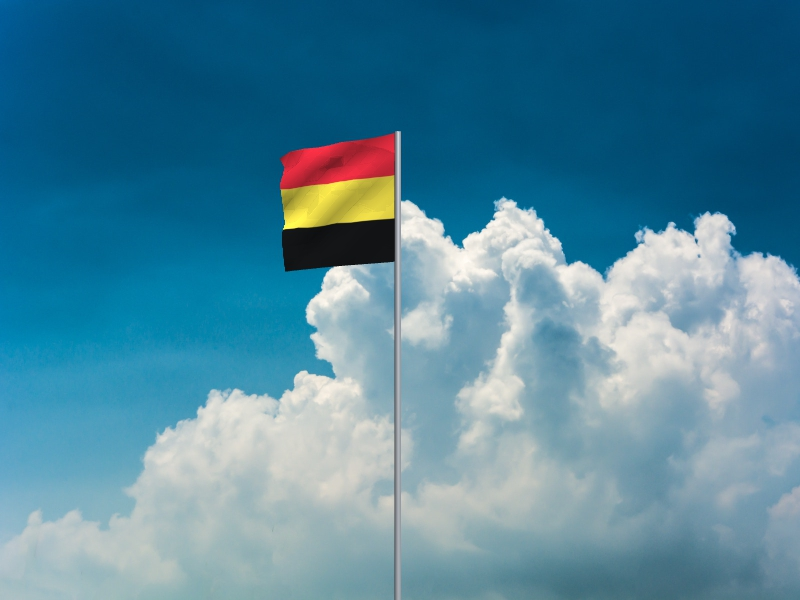be: (278, 135, 394, 274)
